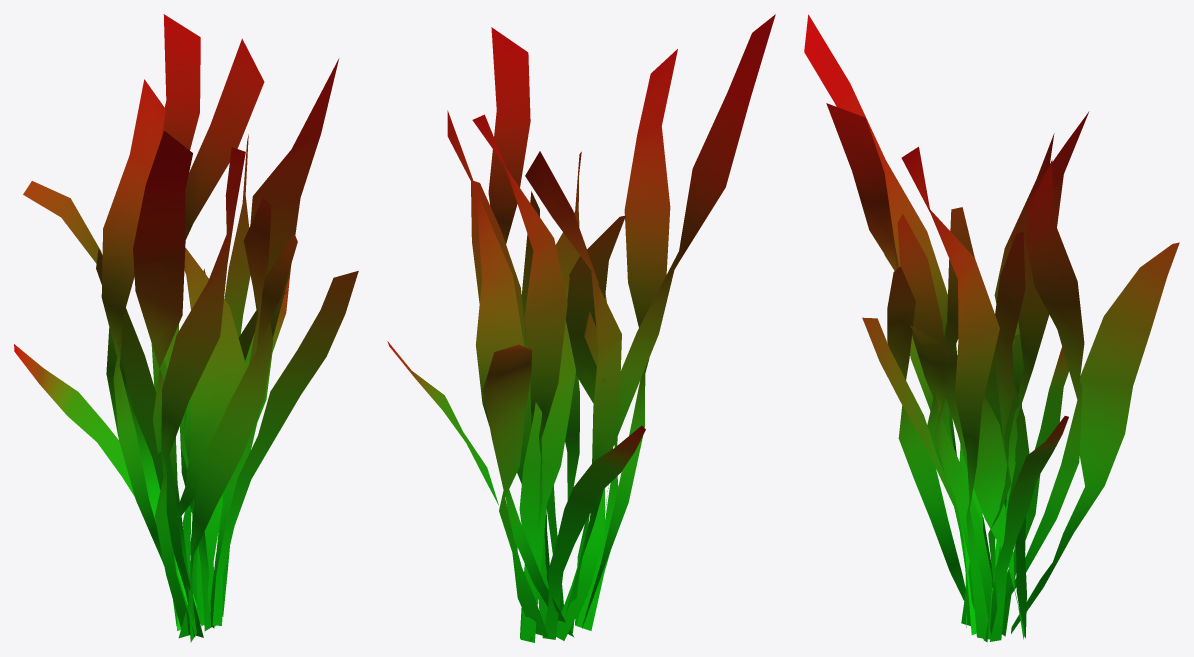
File: Var1_LOD2.fbx
The picture shows the model from 3 angles, left to right: view 1: azimuth 30°, elevation 25°; view 2: azimuth 150°, elevation 25°; view 3: azimuth 270°, elevation 25°; orthographic projection. The views are drawn at different scales.
Parts seen in each view (by area): view 1: _0fd4_Var1_LOD2; view 2: _0fd4_Var1_LOD2; view 3: _0fd4_Var1_LOD2.
Boxes of the visible parts, <box> form: _0fd4_Var1_LOD2: <box>14,14,358,642</box>; _0fd4_Var1_LOD2: <box>387,14,775,642</box>; _0fd4_Var1_LOD2: <box>804,14,1179,642</box>.
Bounding box in the file's own units: 56.06 × 119 × 71.73.
